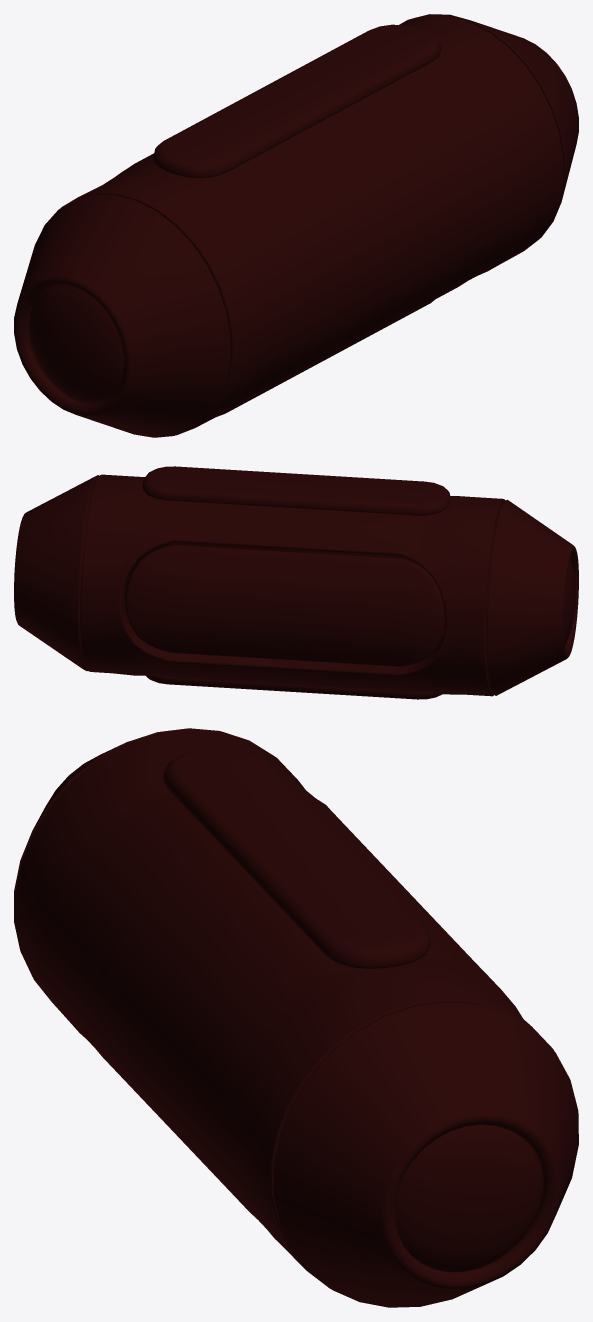
Rendered from mini_speaker.fbx.
3 renders of one model, top to bottom at view 1: azimuth 30°, elevation 25°; view 2: azimuth 150°, elevation 25°; view 3: azimuth 270°, elevation 25°, orthographic. The views are drawn at different scales.
Visible parts, largest first — view 1: Symmetry; view 2: Symmetry; view 3: Symmetry.
Part boxes in pixels (x1,y1,x2,y2): Symmetry: (14,14,578,437); Symmetry: (14,466,578,699); Symmetry: (14,728,578,1307).
Bounding box in the file's own units: 29.27 × 11.37 × 17.62.
